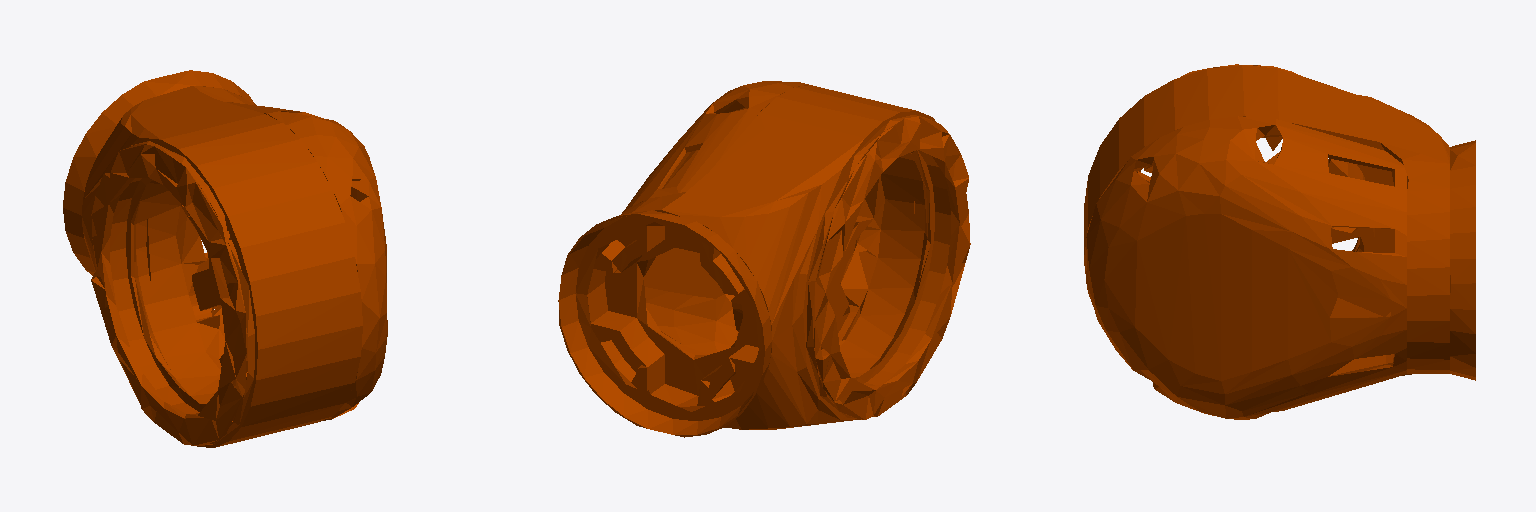
File: va_left_shoulder_front.stl.obj
3 renders of one model, left to right at view 1: azimuth 30°, elevation 25°; view 2: azimuth 150°, elevation 25°; view 3: azimuth 270°, elevation 25°, orthographic.
Parts seen in each view (by area): view 1: <STL_BINARY>; view 2: <STL_BINARY>; view 3: <STL_BINARY>.
Boxes of the visible parts, <box> form: <STL_BINARY>: <box>63,70,387,447</box>; <STL_BINARY>: <box>558,81,970,437</box>; <STL_BINARY>: <box>1084,64,1475,419</box>.
Size of the model in its own units: 0.0963 by 0.119 by 0.1468.